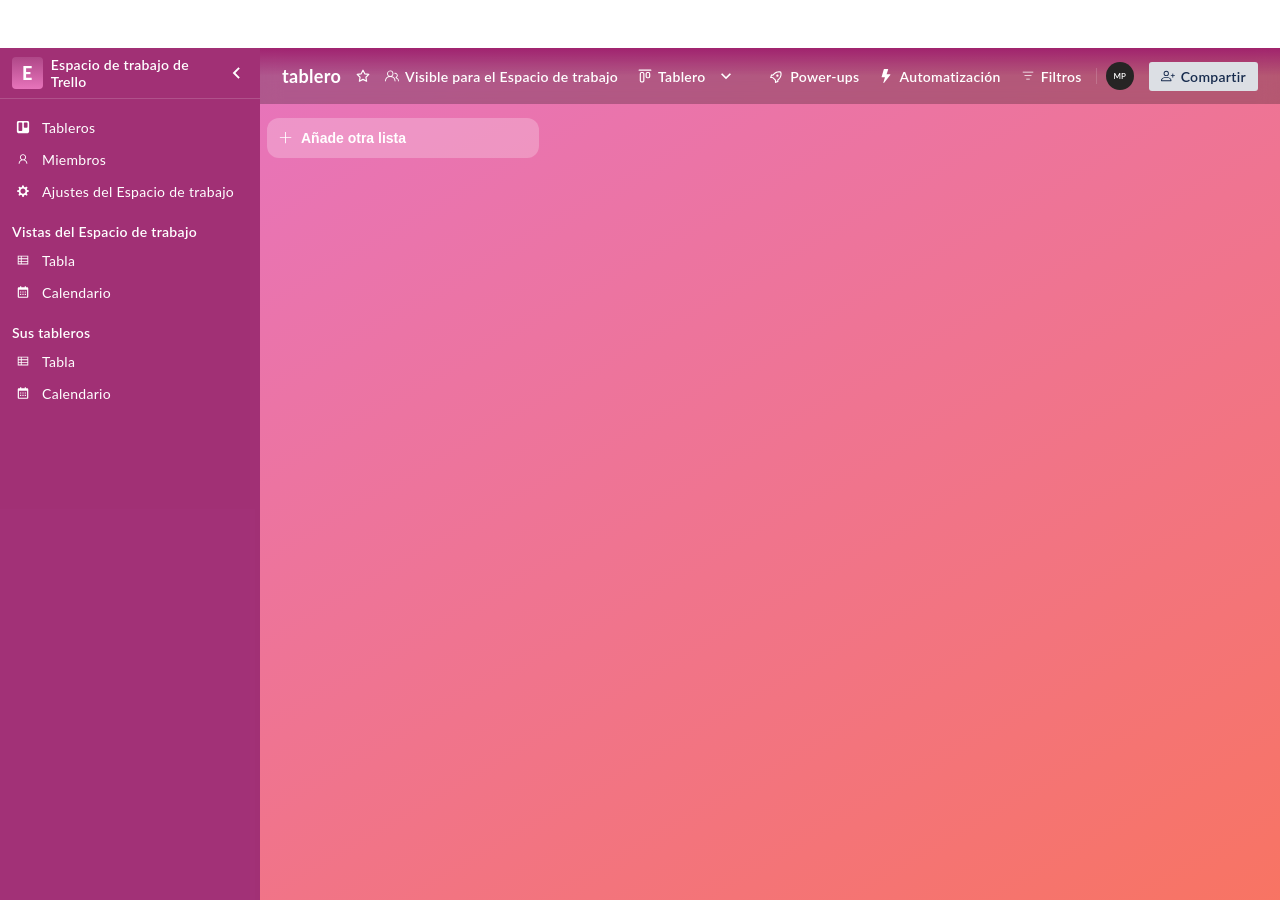
Lists › should render the form for new task if user clicked the add button
Step 1. Click the button "Añade otra lista" → (403, 138), box [267,118,539,158]
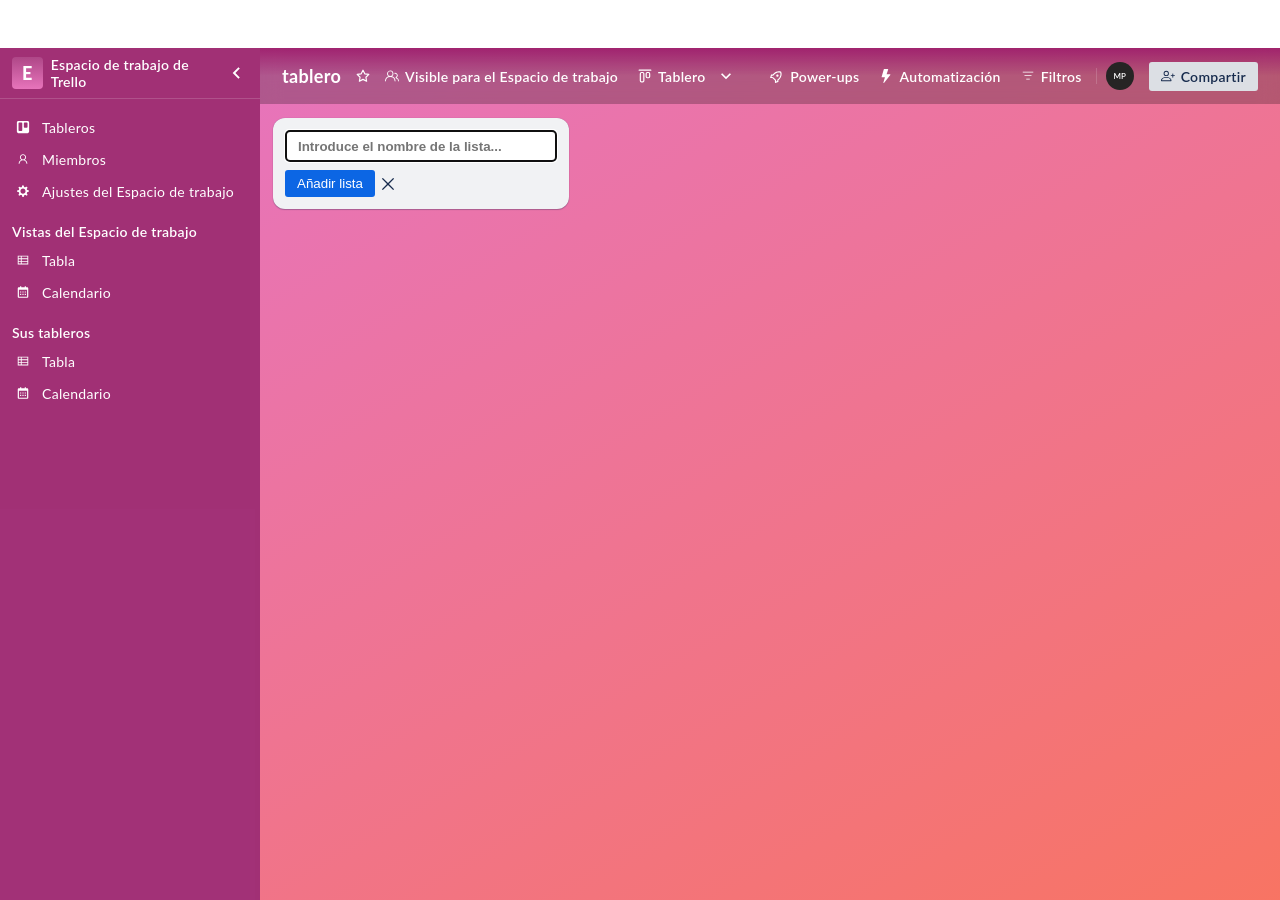
Check: the button "Añadir lista" is shown, box [285,170,375,197]
